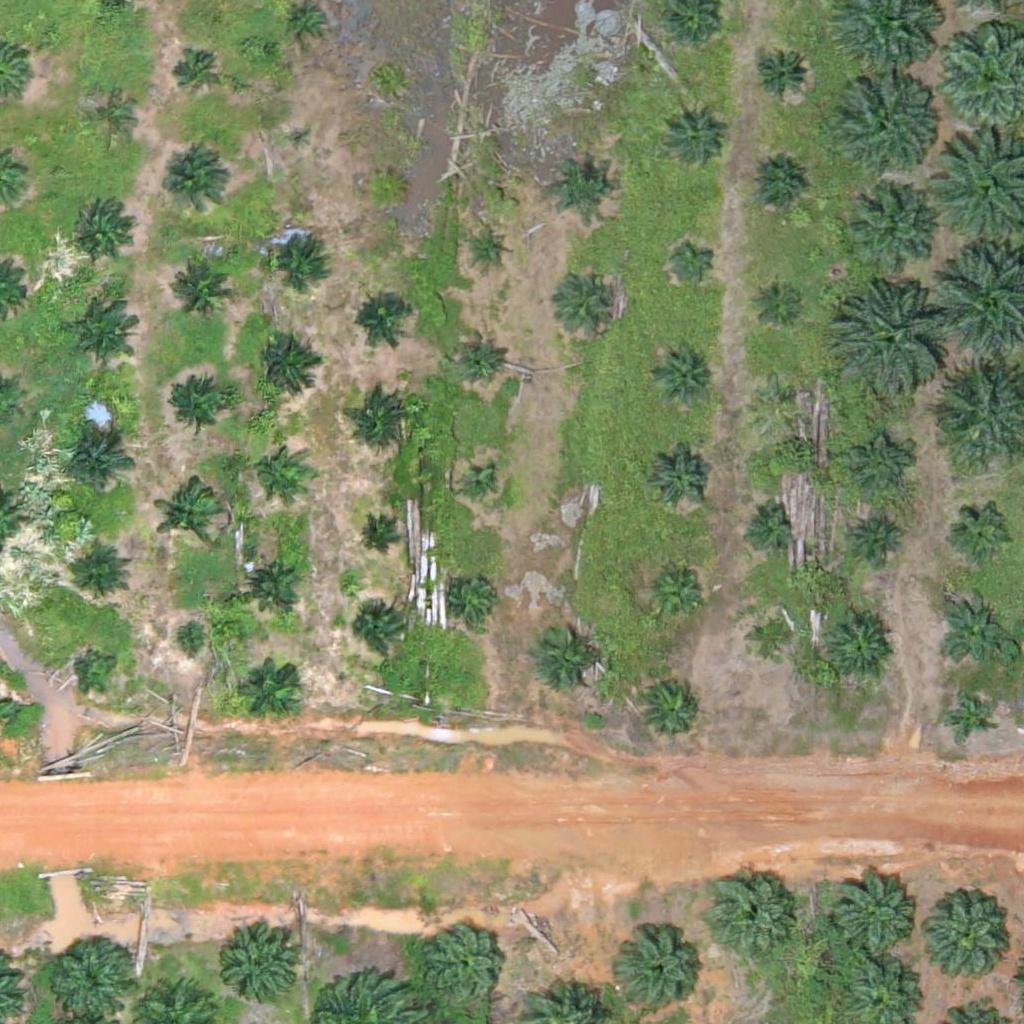Kelapa_Sawit: (828, 277, 953, 403), (916, 884, 1016, 985), (836, 70, 936, 171), (705, 869, 793, 957), (846, 187, 934, 275), (45, 932, 132, 1020), (831, 872, 918, 960), (618, 929, 705, 1017), (221, 921, 308, 1009), (422, 925, 509, 1013), (161, 377, 236, 453), (64, 296, 139, 372), (157, 149, 232, 225), (165, 251, 240, 327), (532, 619, 607, 695), (153, 479, 228, 555), (62, 428, 137, 503), (821, 609, 896, 684), (937, 591, 1012, 666), (562, 270, 625, 333), (551, 154, 614, 217), (266, 226, 329, 289), (243, 656, 306, 719), (70, 546, 133, 609), (242, 551, 305, 614), (649, 342, 712, 405), (649, 447, 712, 510), (642, 679, 705, 742), (642, 561, 705, 624), (750, 43, 813, 106), (352, 388, 414, 451), (351, 288, 413, 351), (255, 334, 318, 396), (72, 200, 134, 263), (661, 104, 723, 167), (849, 434, 911, 497), (953, 503, 1015, 566), (747, 155, 809, 218), (855, 512, 905, 563), (944, 692, 994, 743), (753, 272, 803, 323), (752, 369, 802, 420), (742, 498, 792, 549), (668, 234, 718, 285), (75, 644, 125, 695), (170, 48, 220, 99), (251, 443, 301, 493), (352, 606, 402, 656), (452, 573, 502, 623), (746, 614, 796, 664), (454, 332, 504, 382), (85, 93, 135, 143), (471, 230, 509, 268), (461, 468, 499, 506), (170, 622, 208, 660), (368, 170, 406, 208), (356, 519, 393, 557), (288, 124, 313, 149)
